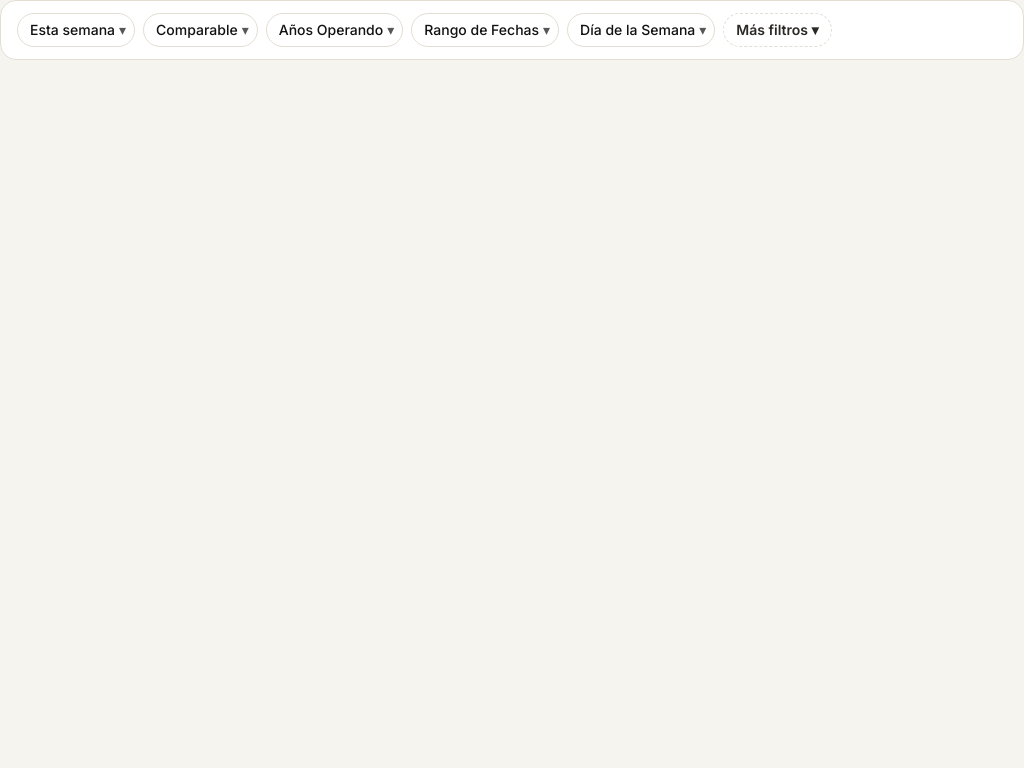
Test: <FiltrosBi> en píldoras › cambiar una fecha limpia el error del rango
Click the button "Rango de Fechas ▾" at [485, 30], box x1=412 y1=14 x2=558 y2=46
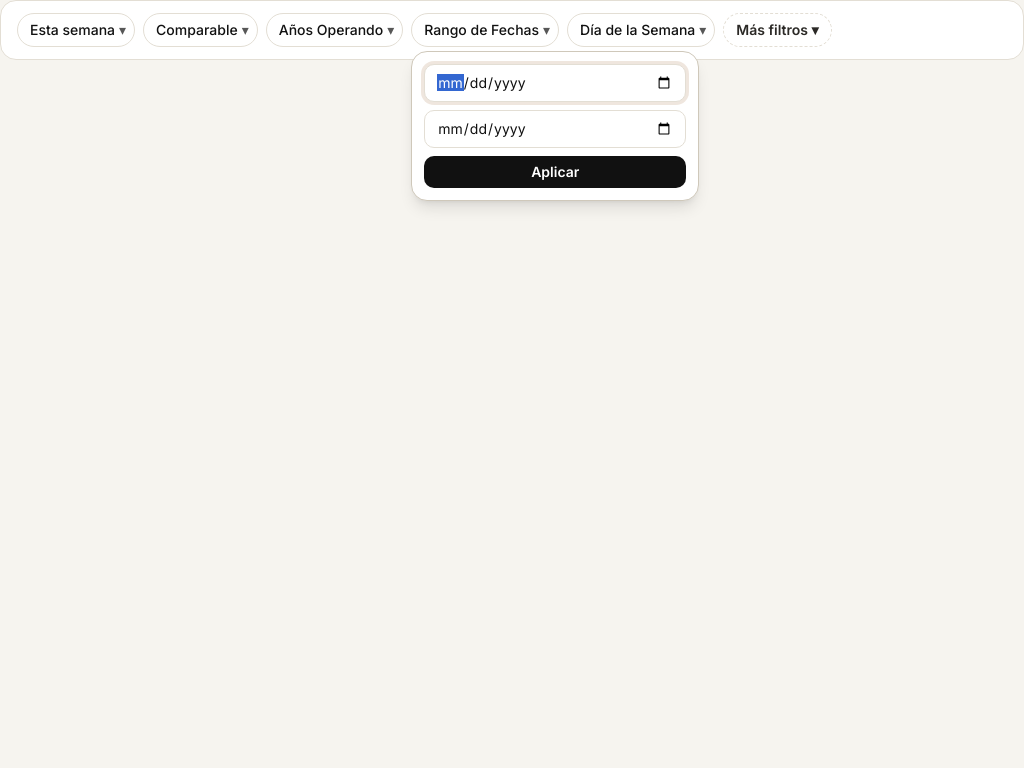
Type "2026-10-10" into the date field named "Desde" at [555, 83], box x1=424 y1=64 x2=686 y2=102
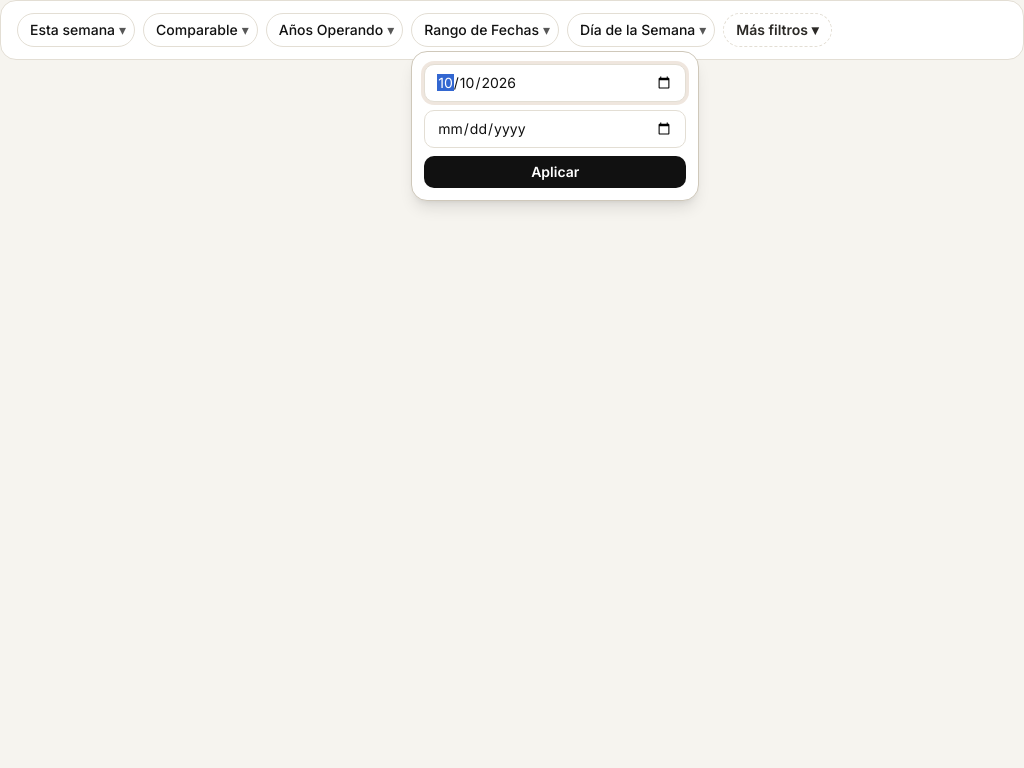
Type "2026-10-01" into the date field named "Hasta" at [555, 129], box x1=424 y1=110 x2=686 y2=148
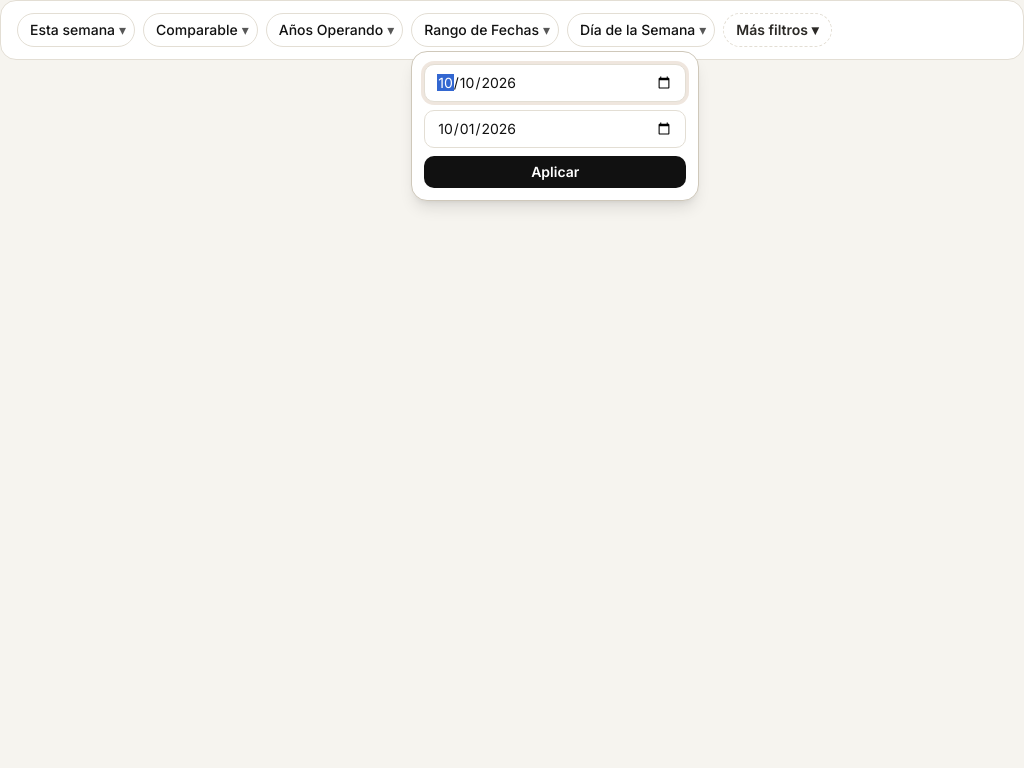
Click the button "Aplicar" at [555, 172], box x1=424 y1=156 x2=686 y2=188
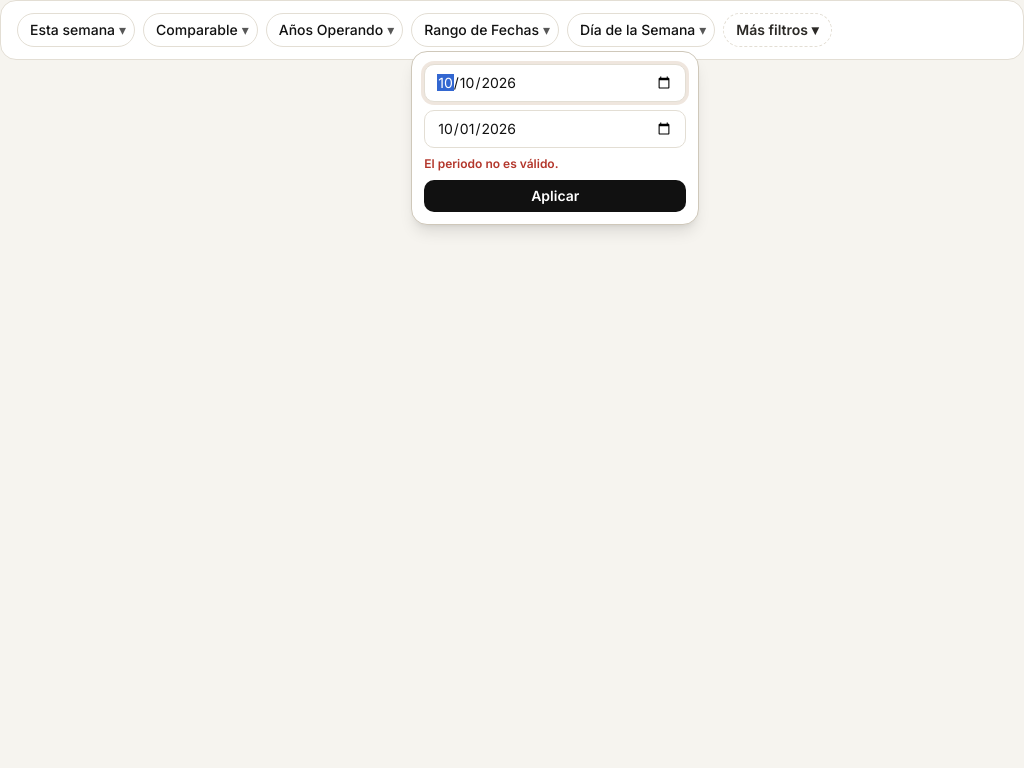
Expected: the message "El periodo no es válido." is shown, x1=424 y1=156 x2=559 y2=171
Type "2026-10-12" into the date field named "Hasta" at [555, 129], box x1=424 y1=110 x2=686 y2=148
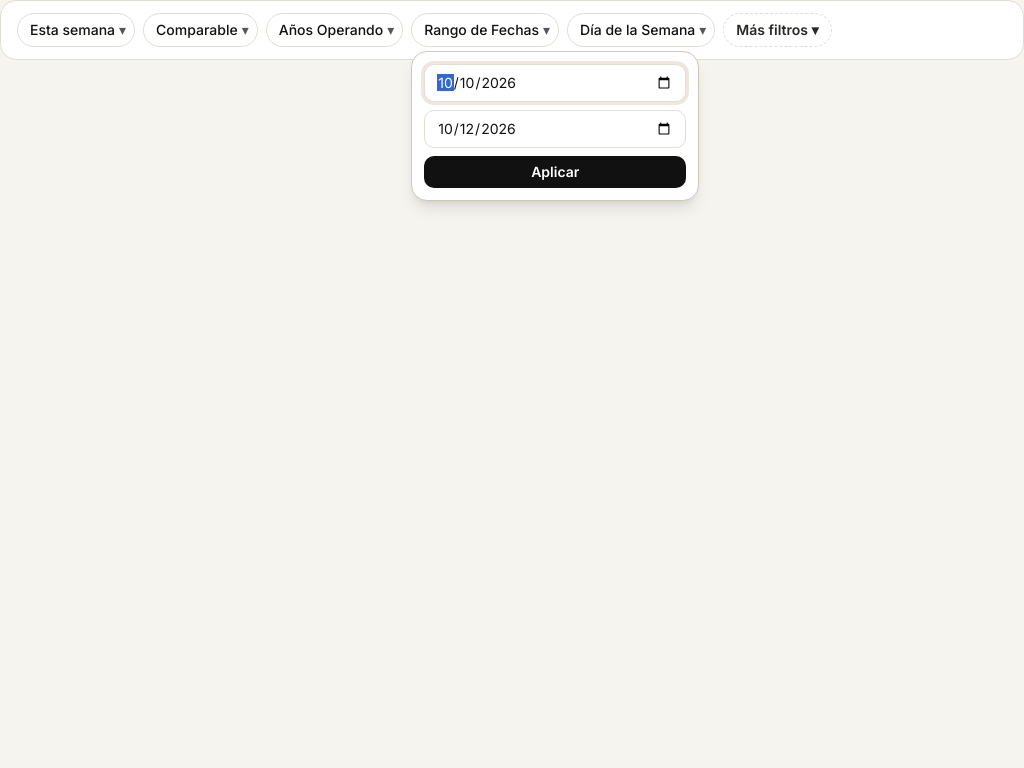
Expected: the message "El periodo no es válido." is gone
